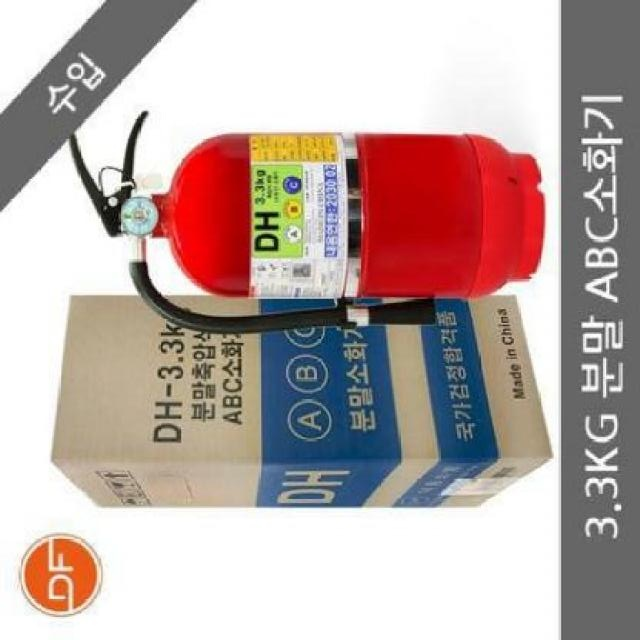fire extinguisher: (68, 110, 545, 335)
